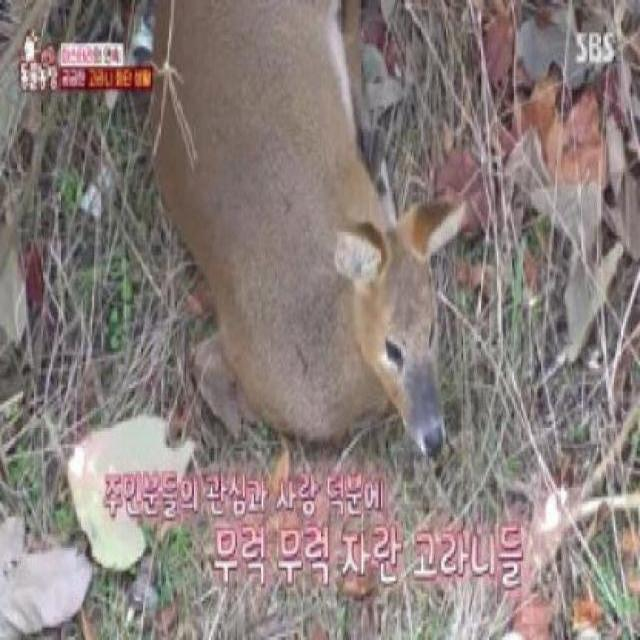deer: (144, 0, 469, 465)
